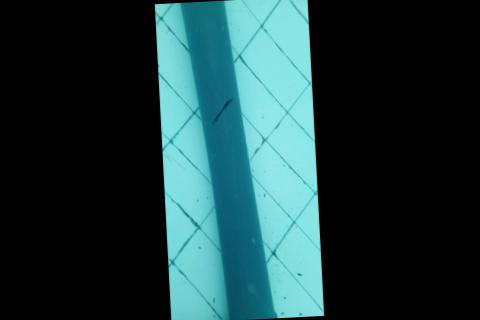keretakan: (209, 95, 237, 126)
